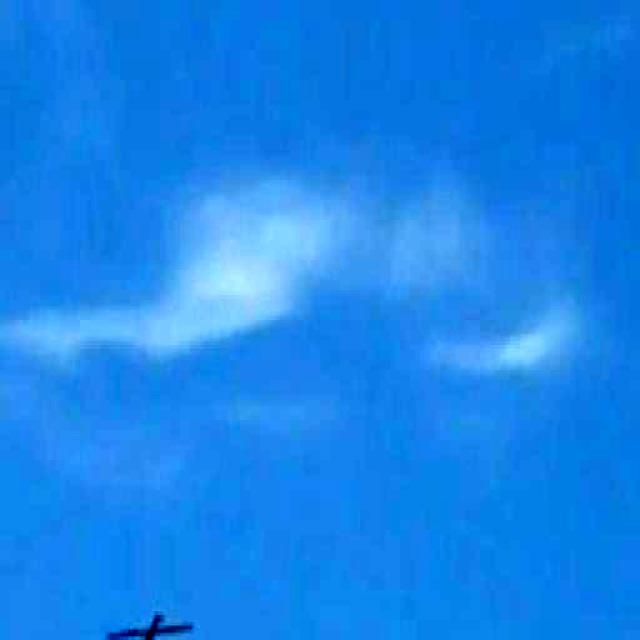drone: (102, 572, 191, 640)
